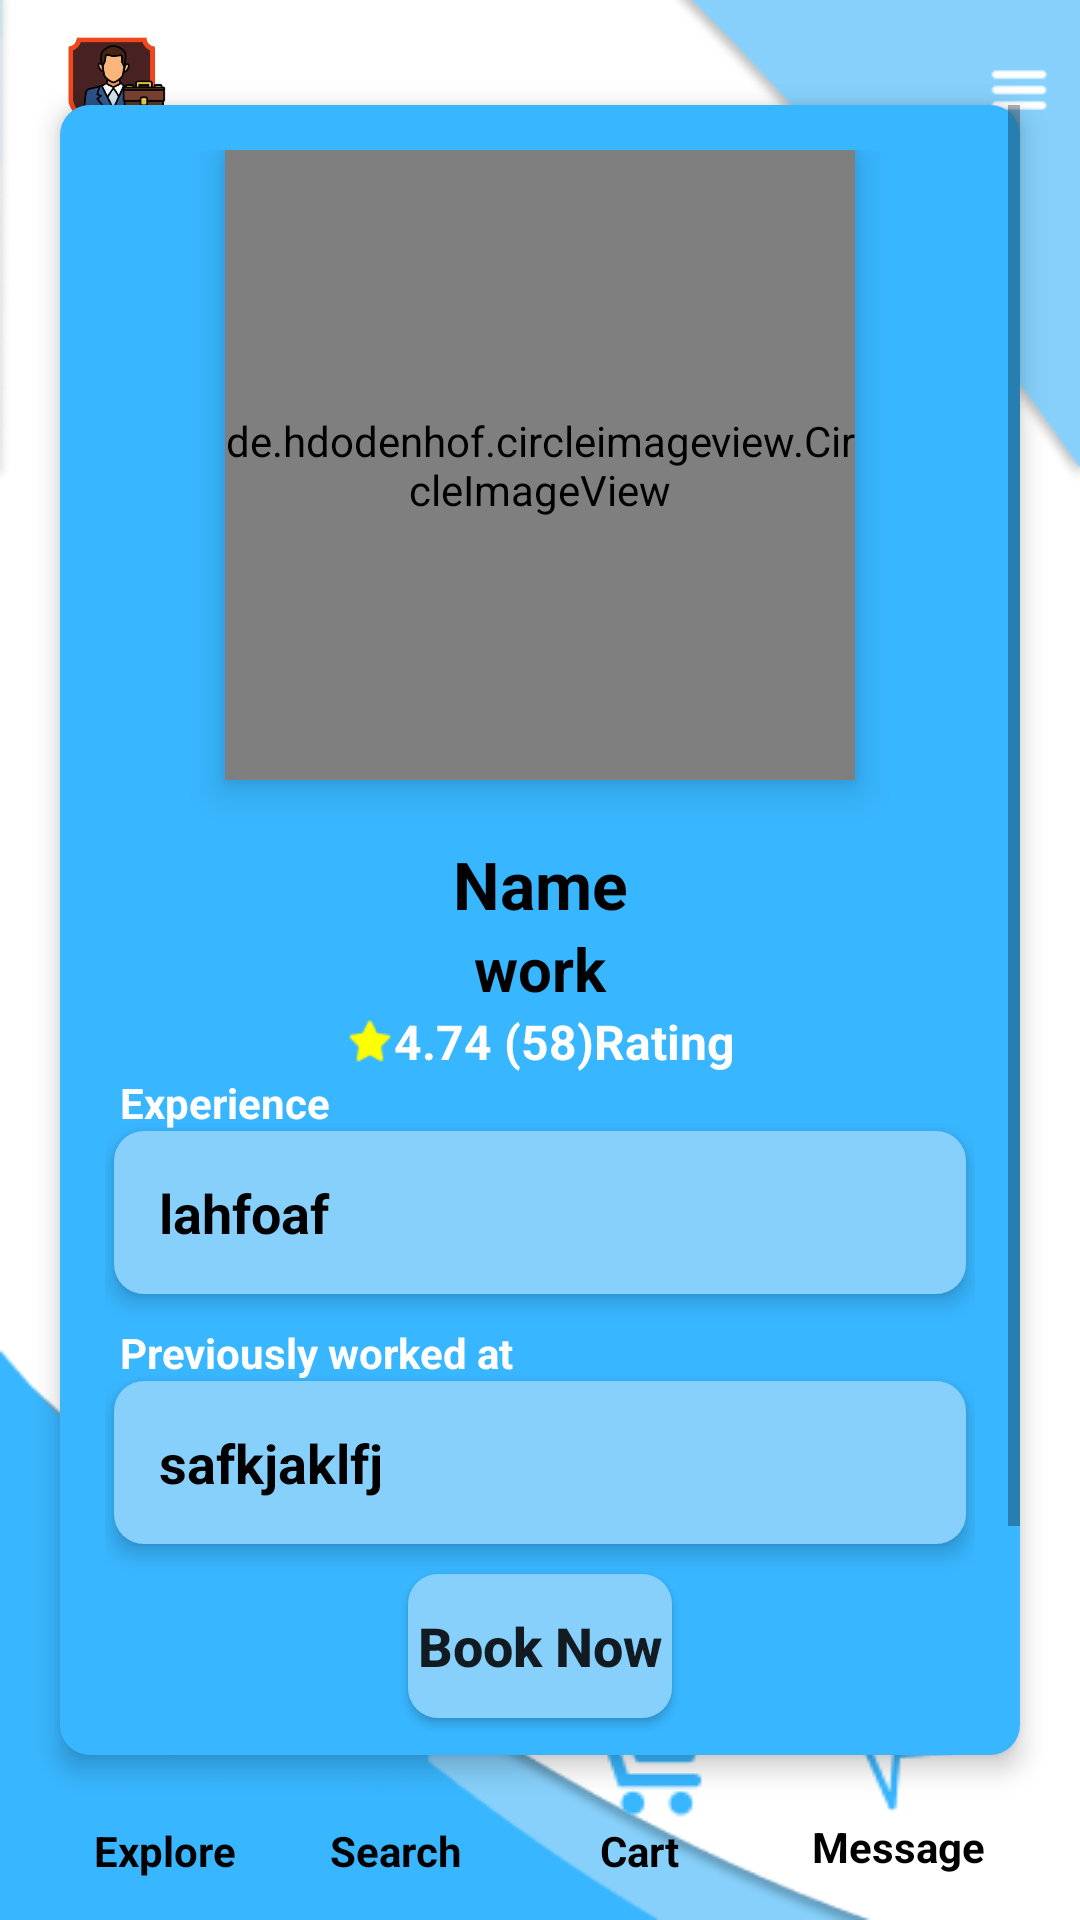

Locate icon controls on the screen. Image size 1080×1920, boxes as (x1, y1, x2, y2).
star: (349, 1020, 391, 1062)
